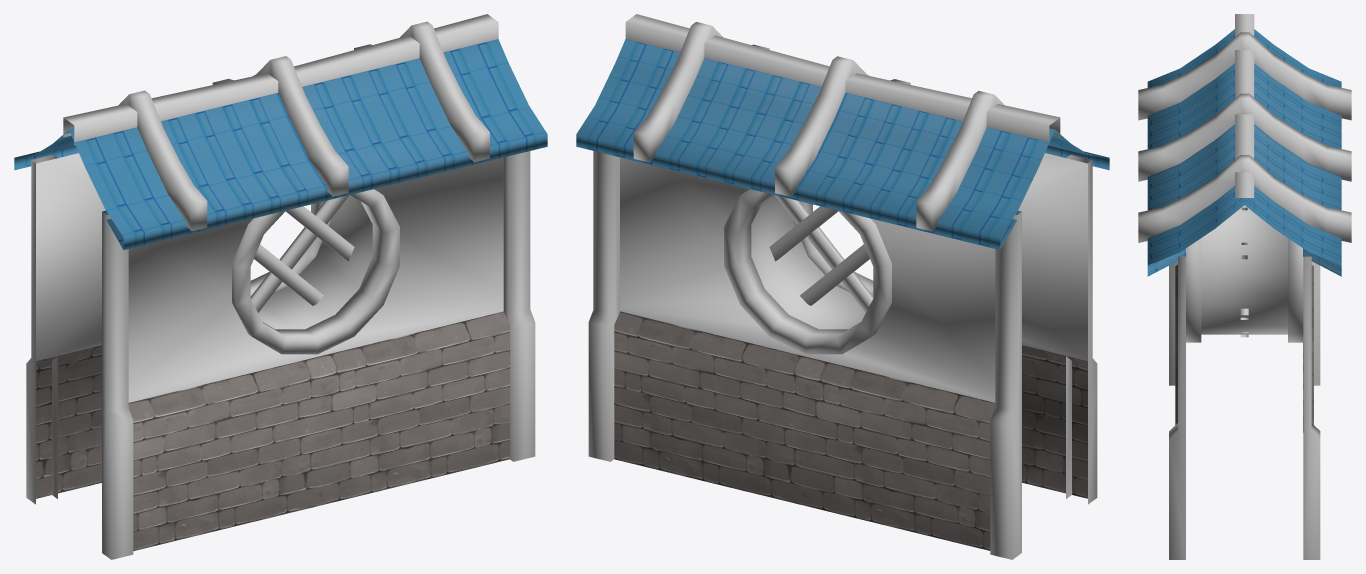
File: GardenWall_2_2.fbx
3 views of the same model, side by side, from view 1: azimuth 30°, elevation 25°; view 2: azimuth 150°, elevation 25°; view 3: azimuth 270°, elevation 25° (orthographic). The views are drawn at different scales.
Parts seen in each view (by area): view 1: GardenWall_2_2; view 2: GardenWall_2_2; view 3: GardenWall_2_2.
Part boxes in pixels (box(x1,y1,x2,y2)): GardenWall_2_2: box(14, 14, 547, 559); GardenWall_2_2: box(576, 14, 1109, 559); GardenWall_2_2: box(1138, 14, 1351, 559).
Size of the model in its own units: 3 by 2.82 by 1.47.
